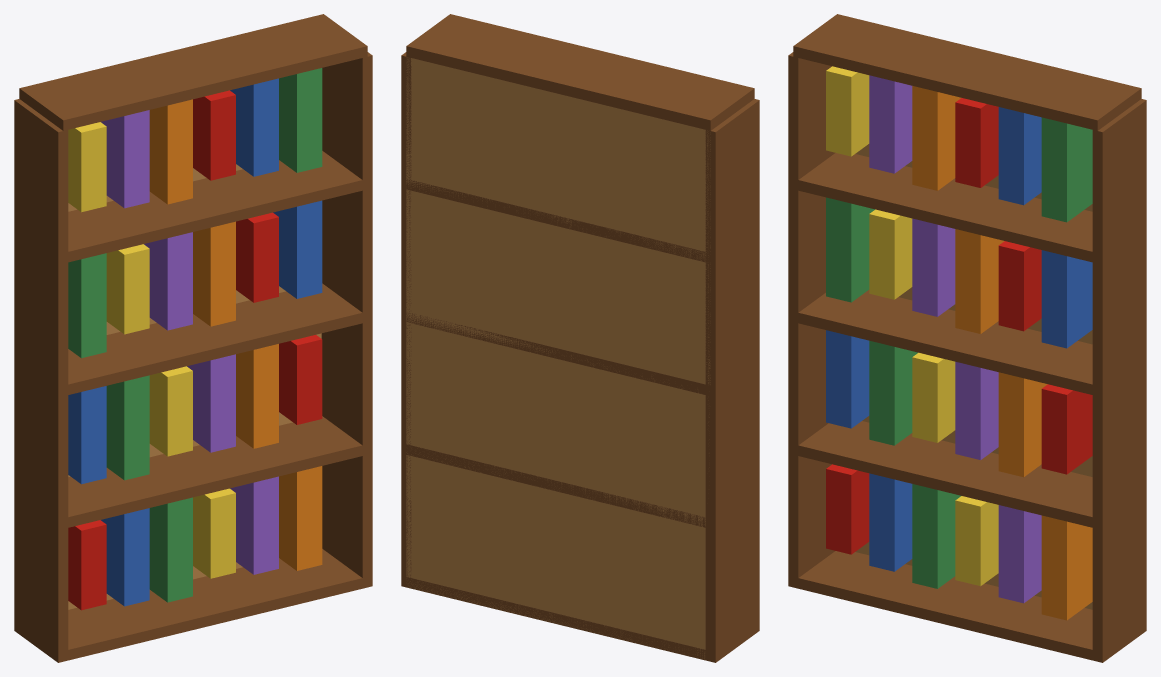
The model's file is bookshelf.fbx.
3 renders of one model, left to right at view 1: azimuth 30°, elevation 25°; view 2: azimuth 150°, elevation 25°; view 3: azimuth 330°, elevation 25°, orthographic.
Parts seen in each view (by area): view 1: bookshelf; view 2: bookshelf; view 3: bookshelf.
Boxes of the visible parts, left/top/right/bottom form: bookshelf: left=14, top=14, right=372, bottom=662; bookshelf: left=401, top=14, right=759, bottom=662; bookshelf: left=788, top=14, right=1146, bottom=662.
Size of the model in its own units: 1.24 by 2.04 by 0.3.
